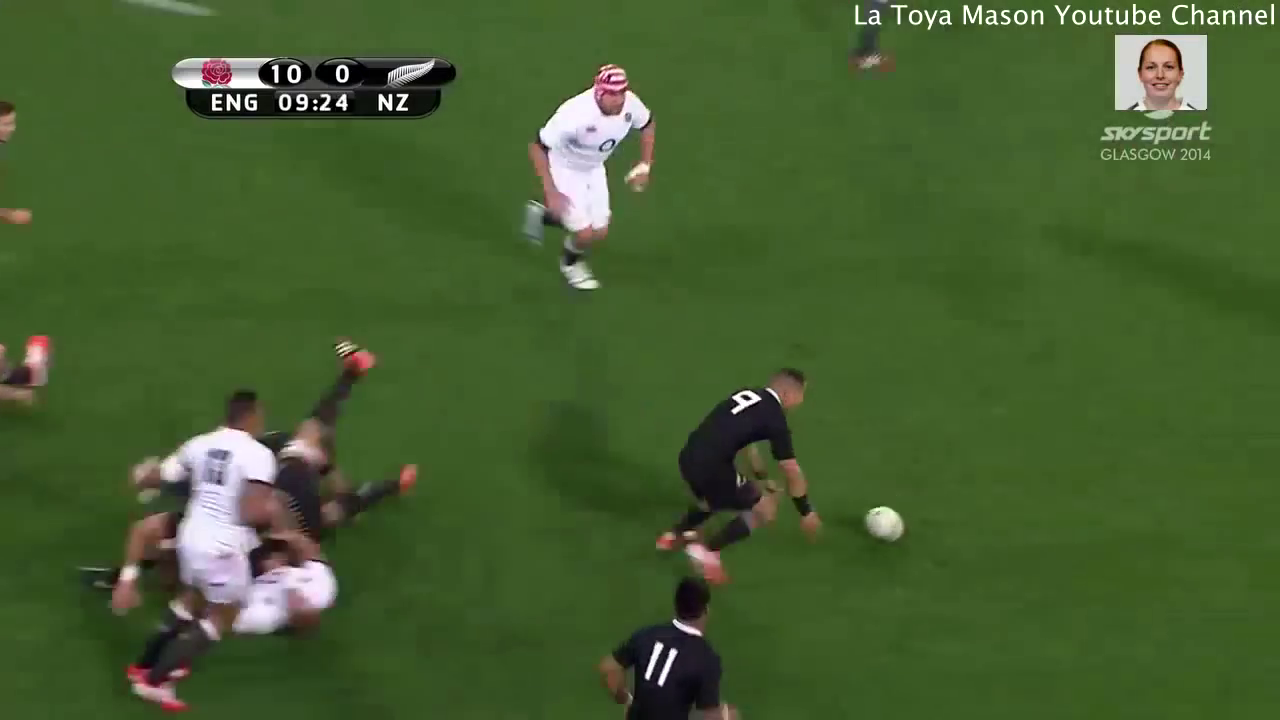ball: (855, 491, 913, 561)
player: (106, 373, 294, 711), (225, 327, 428, 570), (629, 359, 824, 584), (507, 49, 660, 300), (577, 564, 765, 720), (212, 532, 346, 649)
